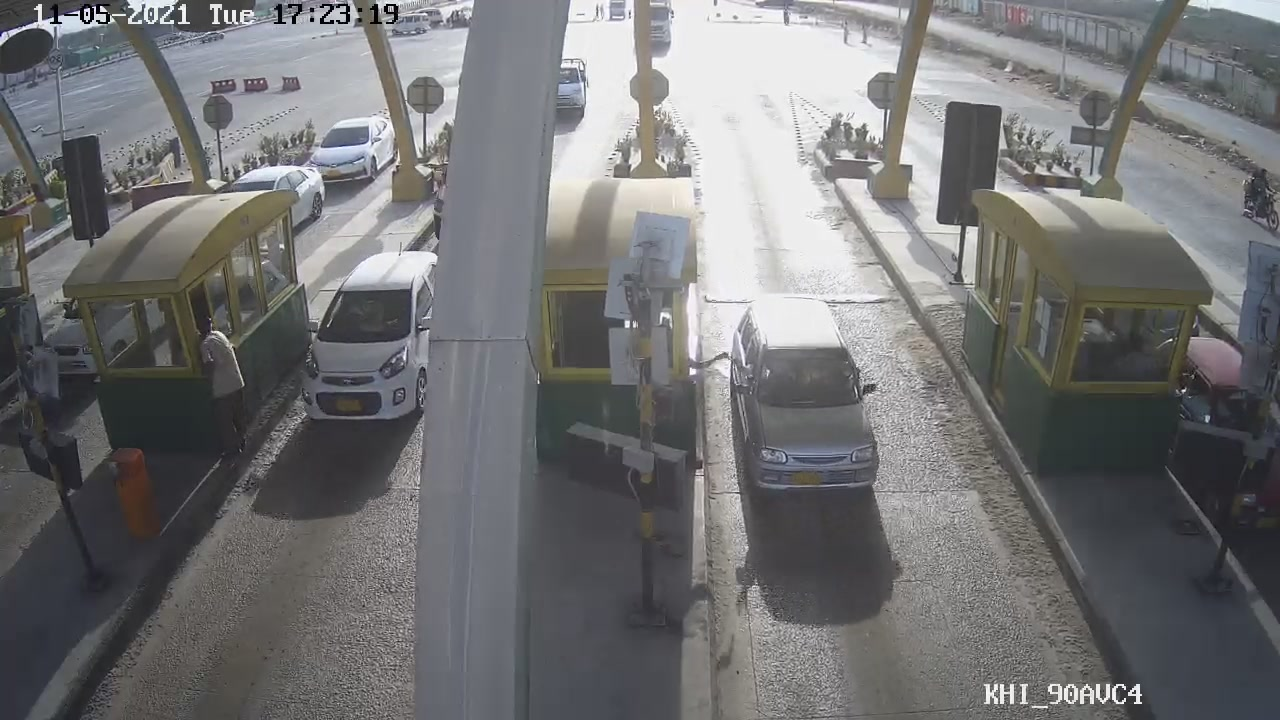F1: (725, 295, 898, 500)
